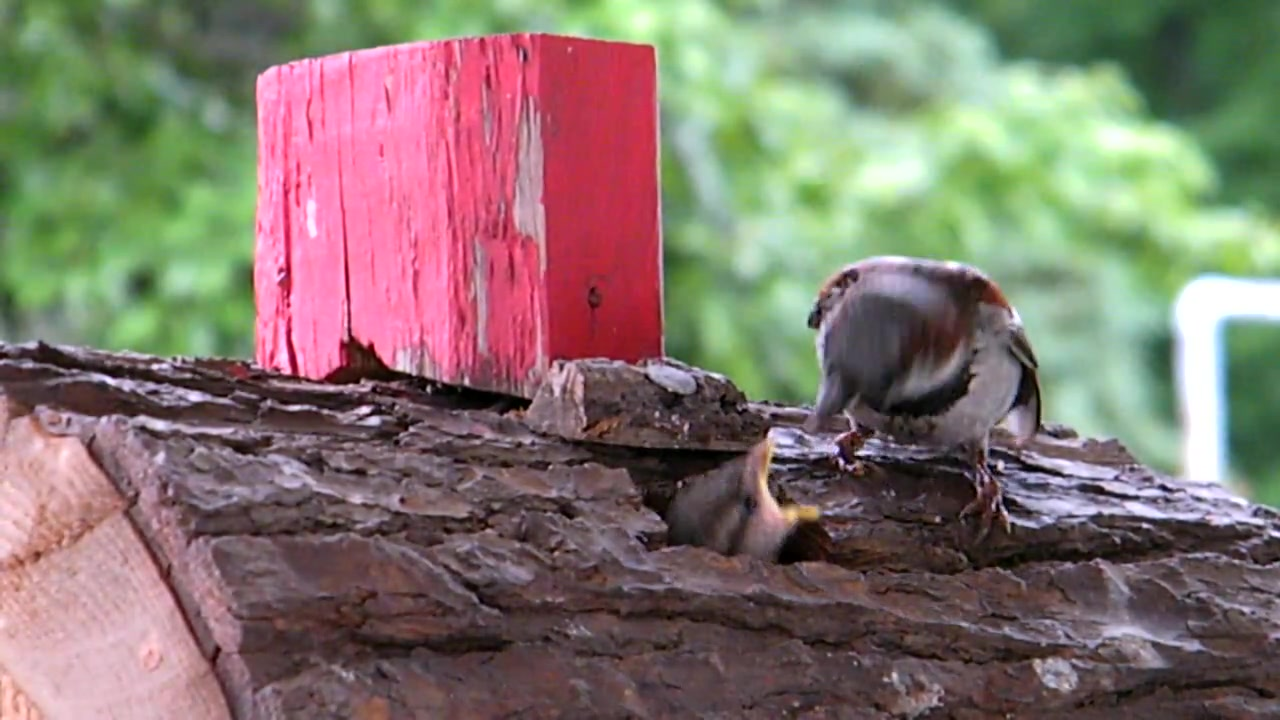bird: (807, 257, 1044, 547)
